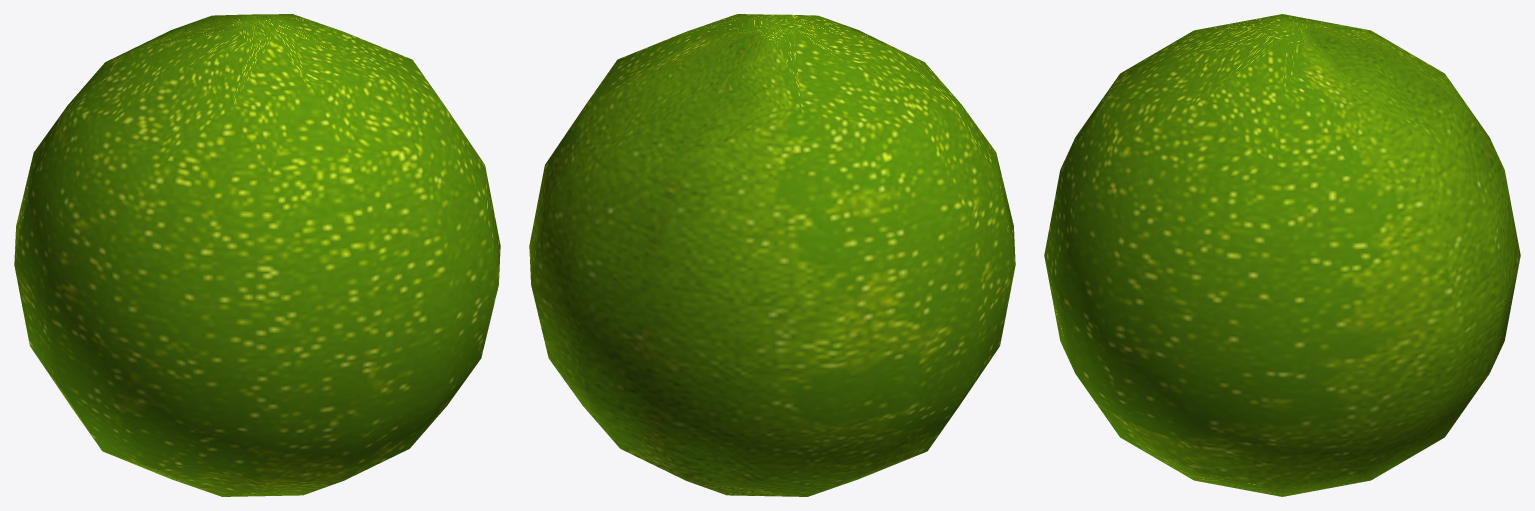
The model's file is LIMON_PRP.fbx.
The picture shows the model from 3 angles, left to right: view 1: azimuth 30°, elevation 25°; view 2: azimuth 150°, elevation 25°; view 3: azimuth 270°, elevation 25°; orthographic projection.
Parts seen in each view (by area): view 1: LIMON_PRP001; view 2: LIMON_PRP001; view 3: LIMON_PRP001.
Boxes of the visible parts, x1=… form: LIMON_PRP001: x1=14, y1=14, x2=500, y2=496; LIMON_PRP001: x1=529, y1=14, x2=1015, y2=496; LIMON_PRP001: x1=1044, y1=14, x2=1520, y2=496.
Bounding box in the file's own units: 3.69 × 3.81 × 3.69.
1 material, 1 textured.
